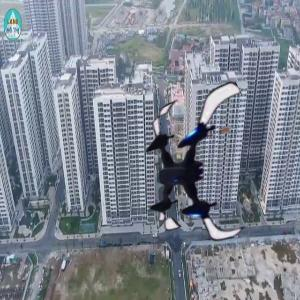drone: (120, 96, 275, 251)
